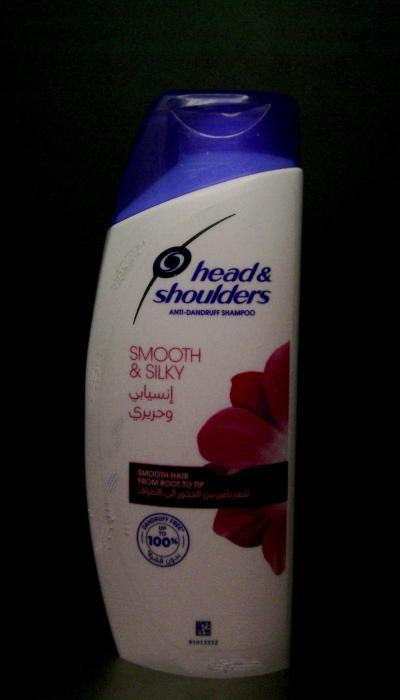scuff_marg: (78, 470, 132, 559), (104, 233, 148, 309), (94, 410, 132, 468), (202, 656, 274, 680)
